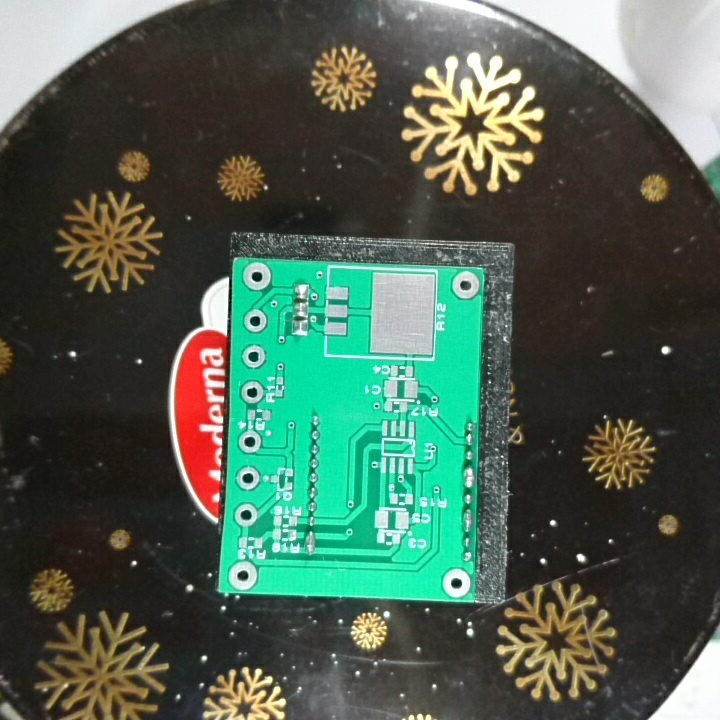F: (240, 260, 274, 293), (450, 269, 482, 303), (227, 559, 259, 591), (442, 566, 471, 599), (238, 378, 268, 408), (239, 341, 268, 371), (234, 462, 262, 492), (242, 308, 269, 337), (232, 501, 258, 530), (237, 429, 264, 455)
P: (302, 527, 319, 558), (460, 465, 477, 492), (461, 507, 474, 534)
